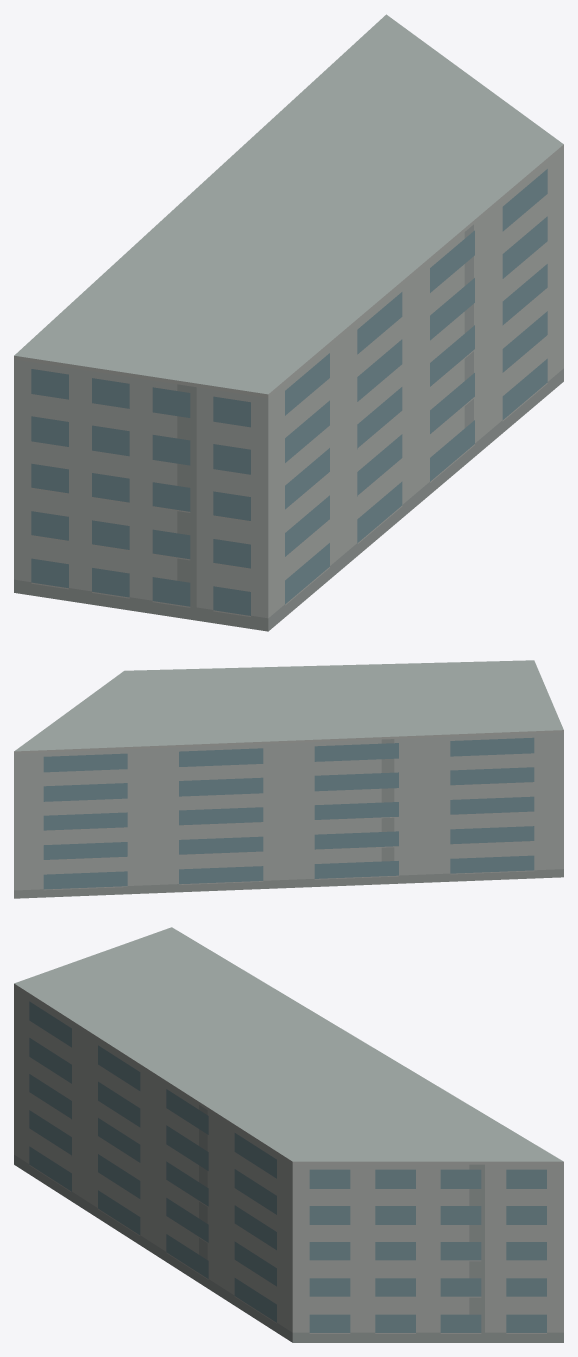
File: residential-8afe547b-1891-47ec-9a66-e254989b0f4b.glb
3 views of the same model, one above another, from view 1: azimuth 30°, elevation 25°; view 2: azimuth 150°, elevation 25°; view 3: azimuth 270°, elevation 25° (orthographic). The views are drawn at different scales.
Visible parts, largest first — view 1: residential-8afe547b-1891-47ec-9a66-e254989b0f4b.tmp; view 2: residential-8afe547b-1891-47ec-9a66-e254989b0f4b.tmp; view 3: residential-8afe547b-1891-47ec-9a66-e254989b0f4b.tmp.
Boxes of the visible parts, left/top/right/bottom form: residential-8afe547b-1891-47ec-9a66-e254989b0f4b.tmp: left=14, top=14, right=563, bottom=631; residential-8afe547b-1891-47ec-9a66-e254989b0f4b.tmp: left=14, top=660, right=563, bottom=898; residential-8afe547b-1891-47ec-9a66-e254989b0f4b.tmp: left=14, top=927, right=563, bottom=1342.
Bounding box in the file's own units: 42.34 × 15.25 × 41.96.
